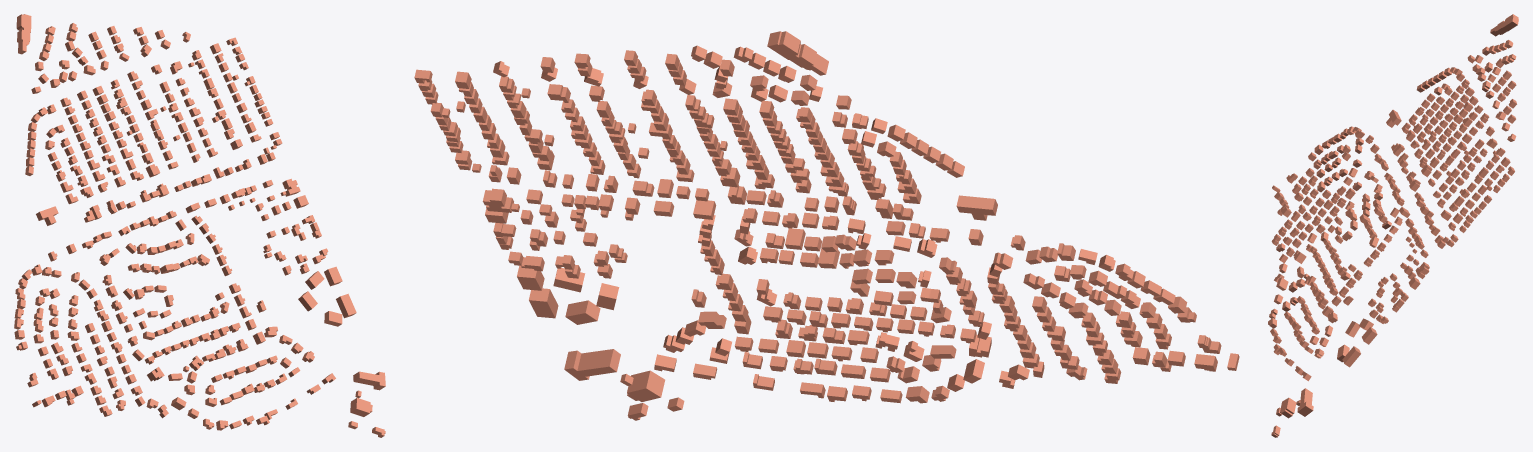
3 views of the same model, side by side, from view 1: azimuth 30°, elevation 25°; view 2: azimuth 150°, elevation 25°; view 3: azimuth 270°, elevation 25° (orthographic). The views are drawn at different scales.
Visible parts, largest first — view 1: mesh; view 2: mesh; view 3: mesh.
Part boxes in pixels (x1=…): mesh: x1=14, y1=14, x2=385, y2=437; mesh: x1=414, y1=31, x2=1239, y2=420; mesh: x1=1268, y1=14, x2=1518, y2=437.
Bounding box in the file's own units: 874 × 858 × 593.
